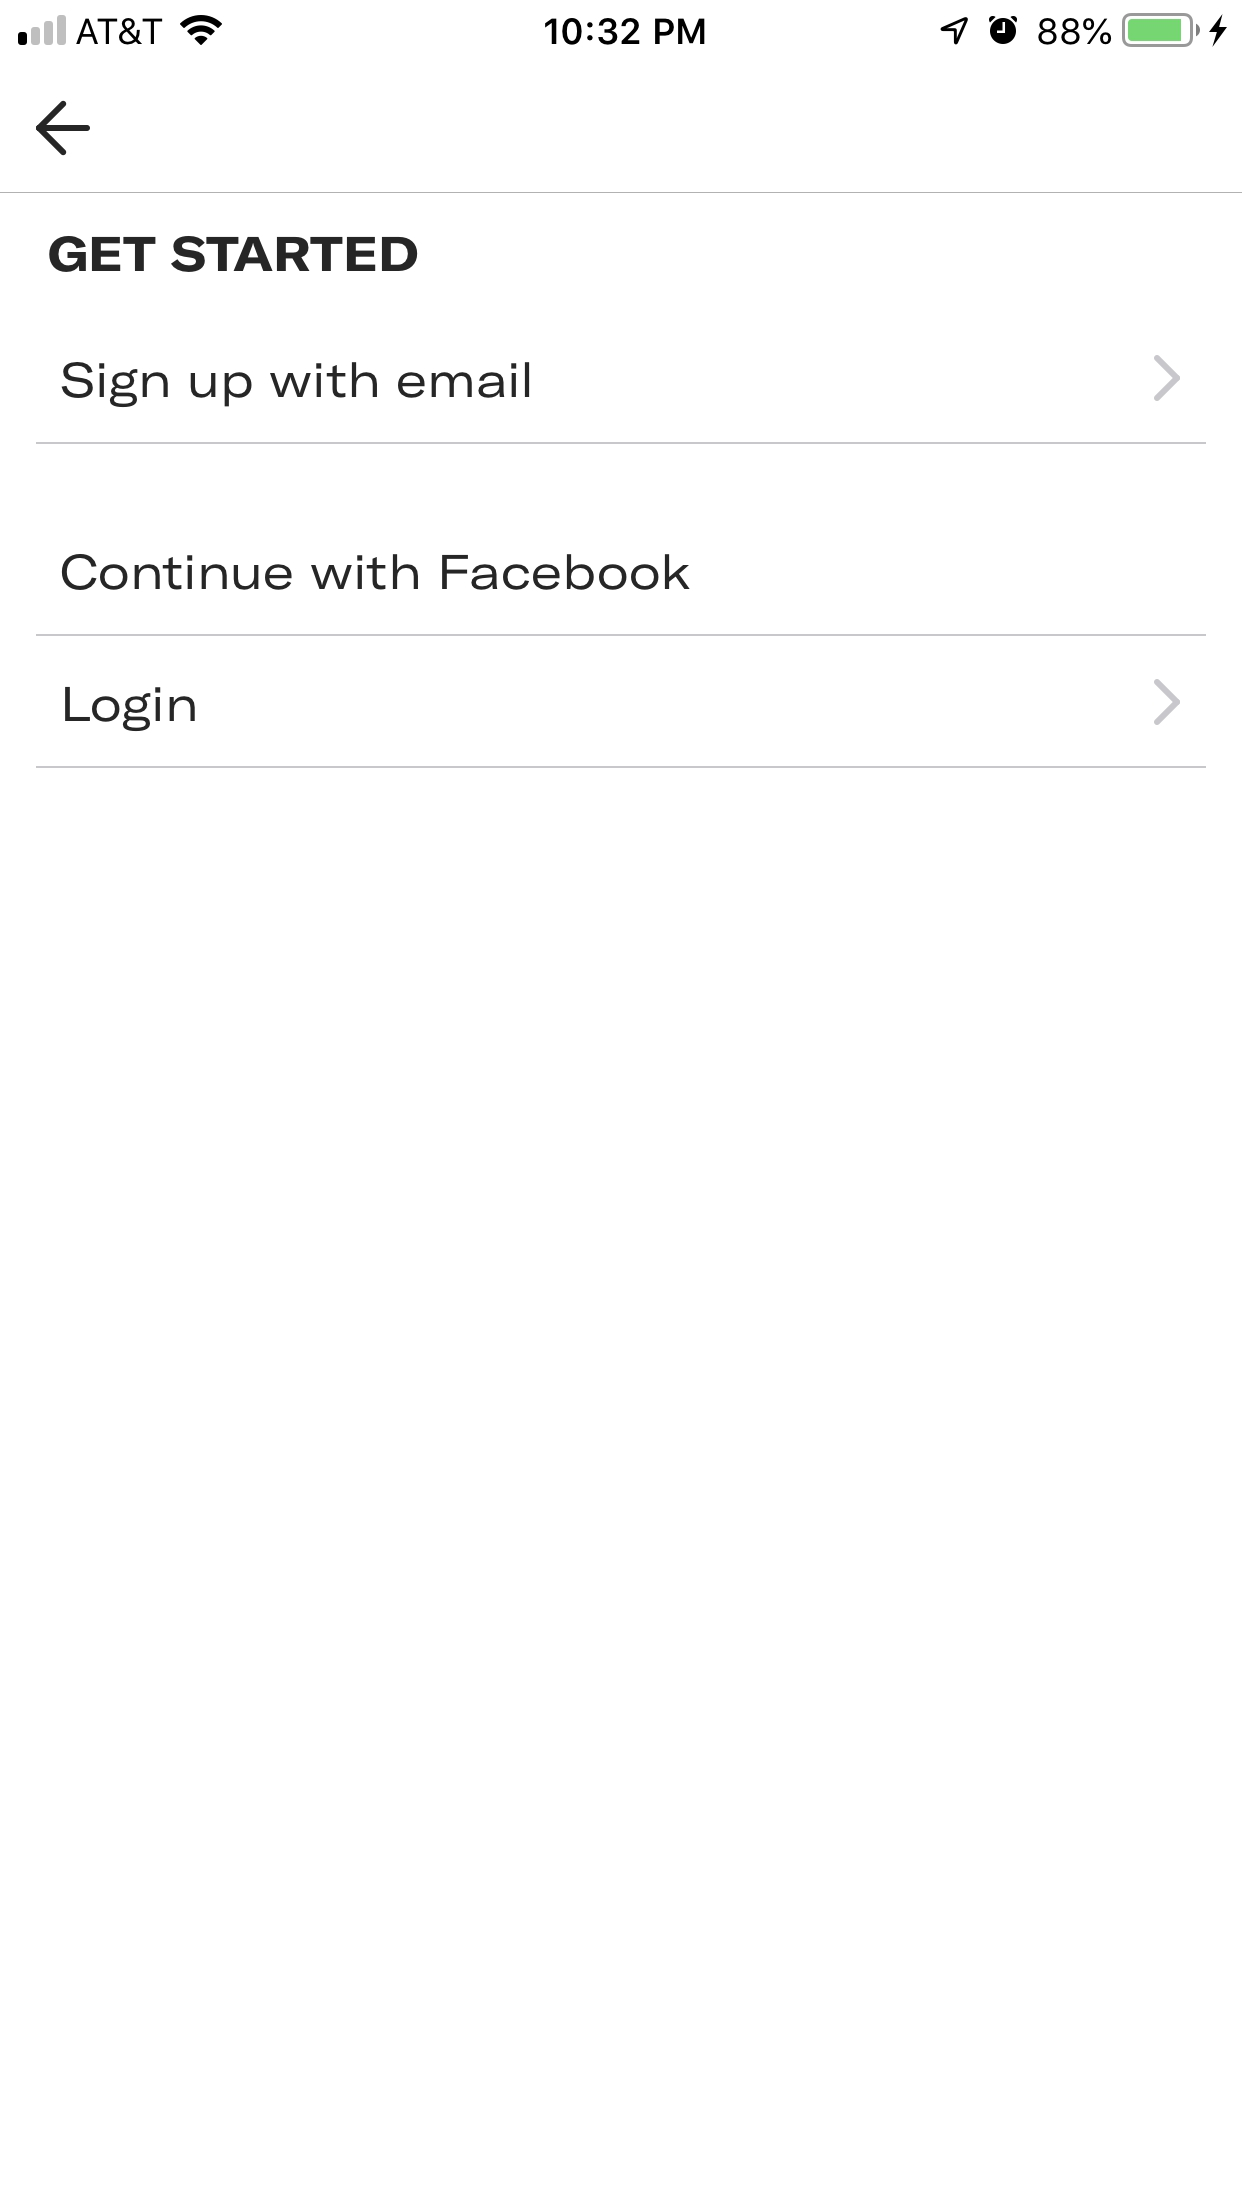Icon: (36, 102, 93, 158), (1153, 355, 1181, 403), (1153, 679, 1181, 726)
Text: (62, 554, 690, 591), (62, 362, 529, 409), (49, 237, 419, 274), (65, 687, 197, 732)
UpperTaskBar: (2, 2, 1242, 49)
